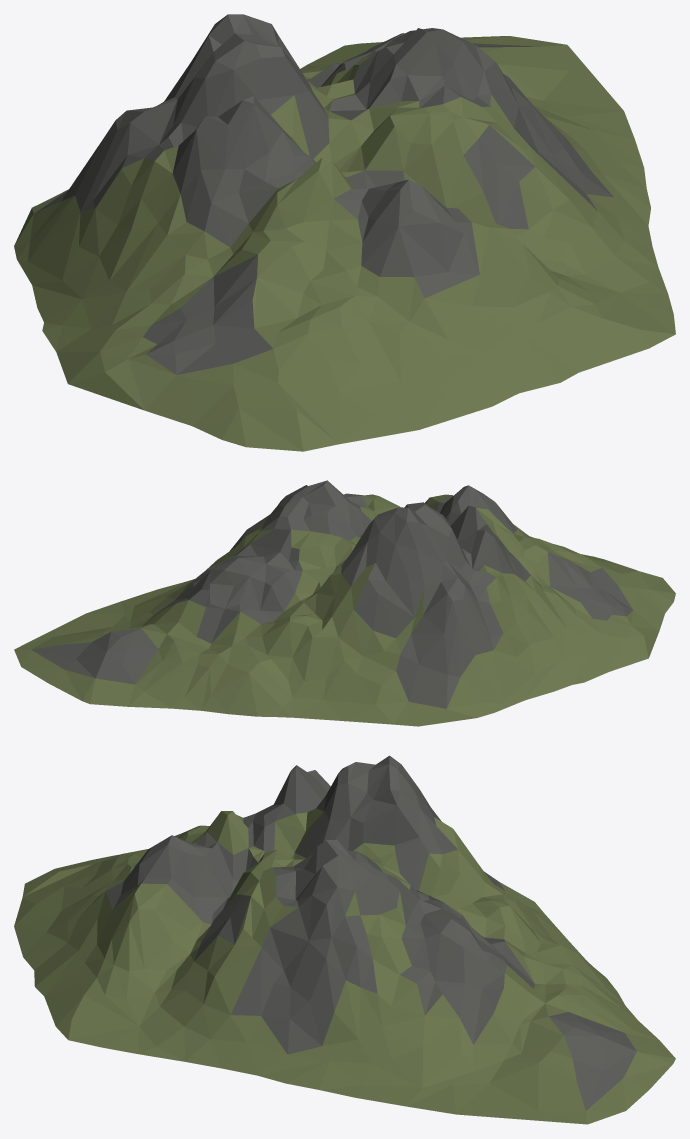
The model's file is SM_Envr_Nature_Mountain_10.fbx.
3 renders of one model, top to bottom at view 1: azimuth 30°, elevation 25°; view 2: azimuth 150°, elevation 25°; view 3: azimuth 270°, elevation 25°, orthographic. The views are drawn at different scales.
Visible parts, largest first — view 1: SM_Envr_Nature_Mountain_10; view 2: SM_Envr_Nature_Mountain_10; view 3: SM_Envr_Nature_Mountain_10.
Part boxes in pixels (x1=…): SM_Envr_Nature_Mountain_10: x1=14, y1=14, x2=675, y2=451; SM_Envr_Nature_Mountain_10: x1=14, y1=480, x2=675, y2=726; SM_Envr_Nature_Mountain_10: x1=14, y1=755, x2=675, y2=1124.
Size of the model in its own units: 40374 by 12495 by 39939.
